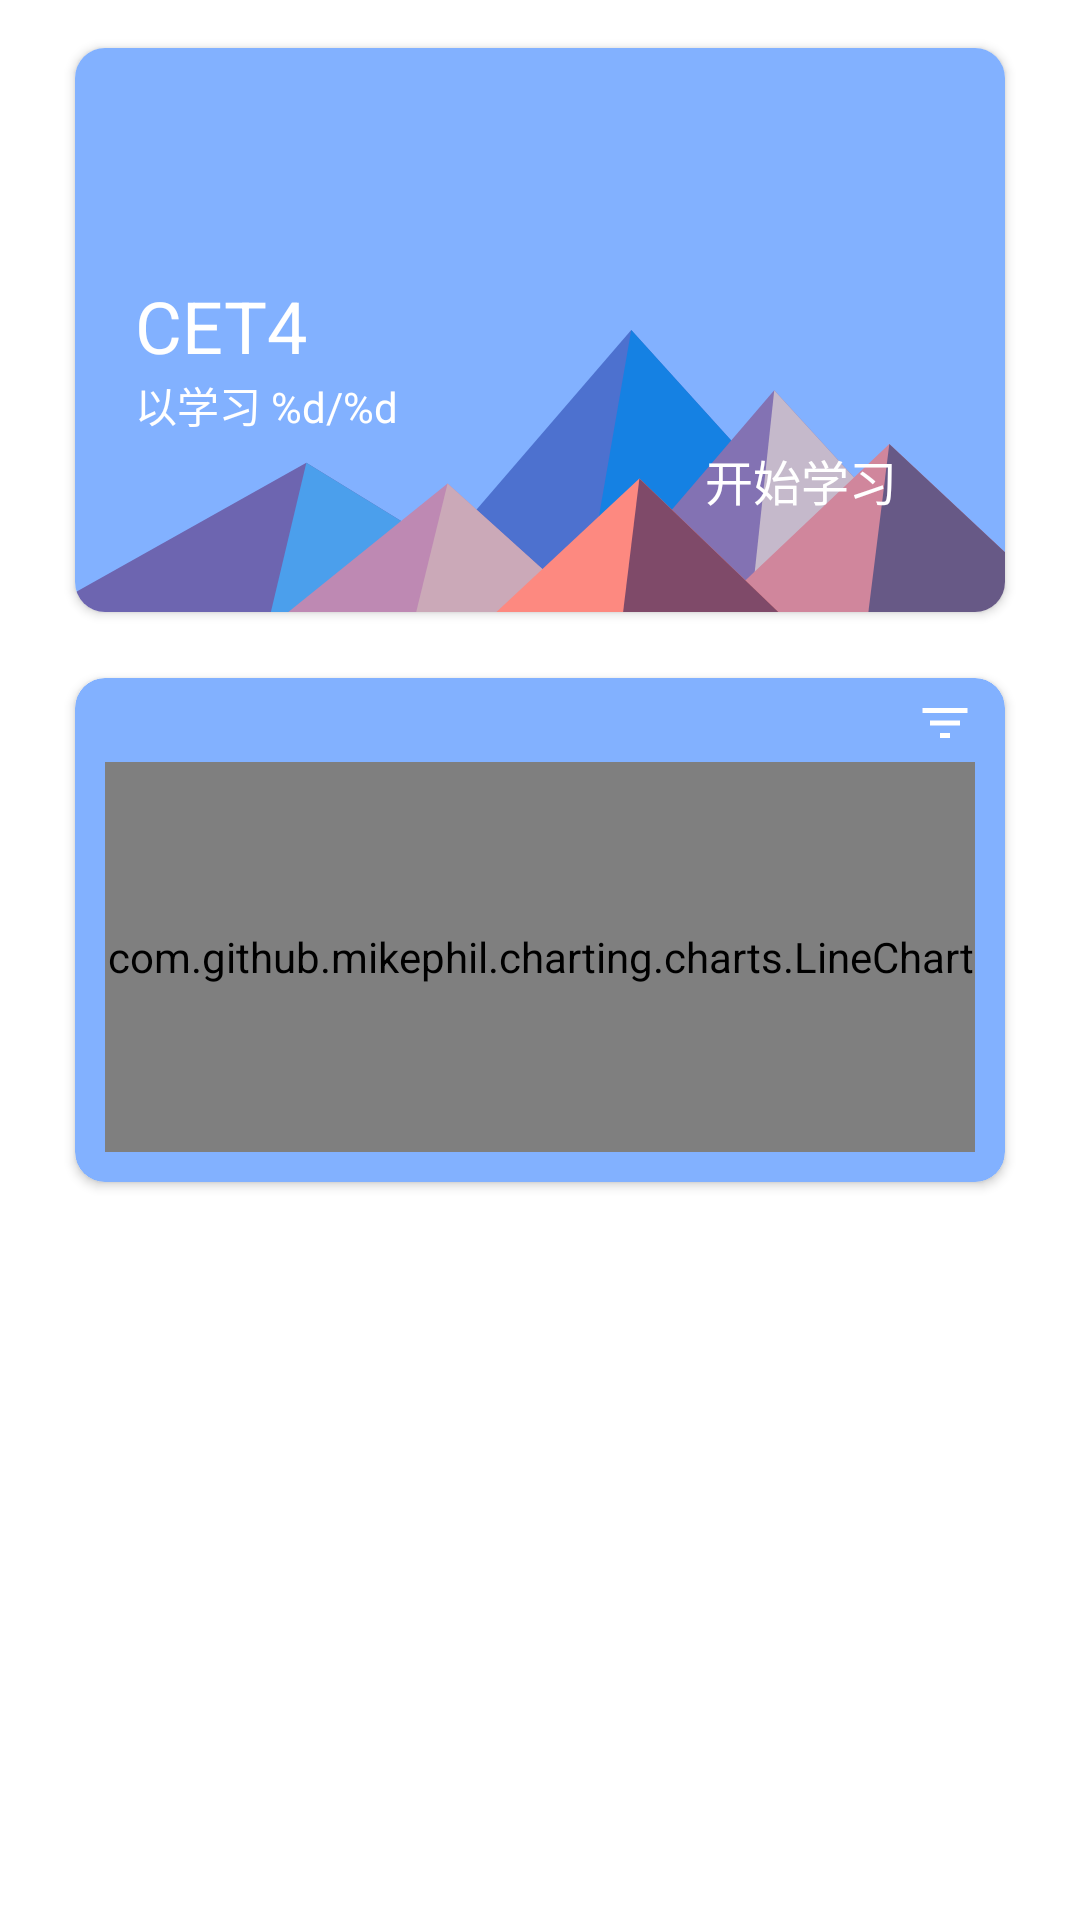

Locate icon controls on the screen. Image size 1080 × 1920, boxes as (x1, y1, x2, y2).
filter: (922, 708, 968, 738)
